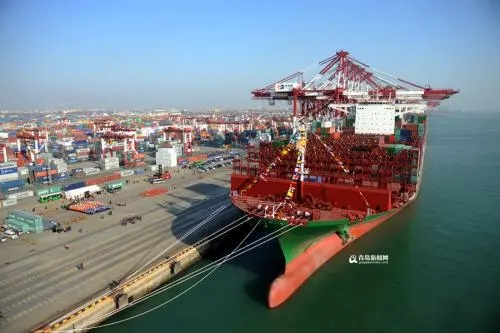Cargoship: (220, 56, 460, 307)
